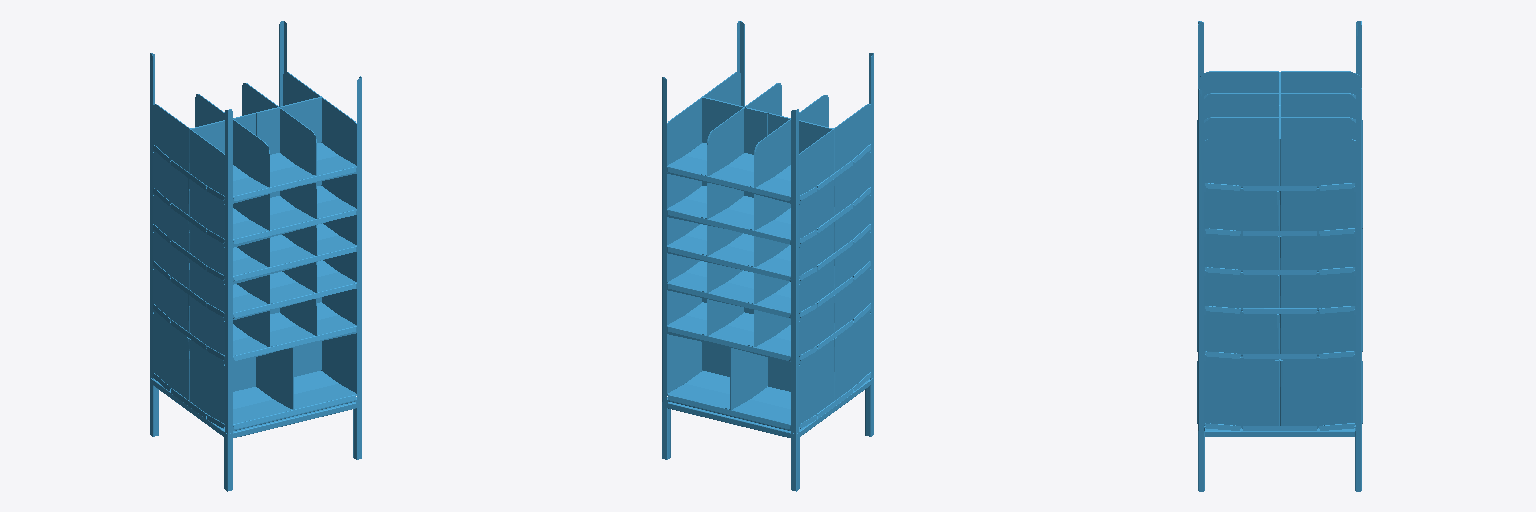
The robot description file, URDF, robot "shelf.SLDASM":
<robot
  name="shelf.SLDASM">

  <link
    name="base_link">
      <origin
        xyz="0 0 0 "
        rpy="1.5707 0 0" />
  </link>
  <link
    name="pod_link">
    <inertial>
      <origin
        xyz="0 0 0 "
        rpy="0 0 0" />
      <mass
        value="20" />
      <inertia
        ixx="0.104502176006253"
        ixy="0.00734284655670482"
        ixz="1.00520827530156E-05"
        iyy="0.246486764065977"
        iyz="0.000843006810157312"
        izz="0.16727784258504" />
    </inertial>
    <visual>
      <origin
        xyz="0 0 0"
        rpy="0 0 0" />
      <geometry>
        <mesh
          filename="meshes/pod_lowres.stl" />
      </geometry>
    </visual>
    <collision>
      <origin
        xyz="0 0 0"
        rpy="0 0 0" />
      <geometry>
        <mesh
          filename="meshes/pod_lowres.stl" />
      </geometry>
    </collision>
</link>


  <joint name="podjoint" type="prismatic">
    <parent link="base_link"/>
    <child link="pod_link"/>
    <origin rpy="0 0 0" xyz="0 0 0"/>
    <limit />
  </joint>
</robot>

--- Render facts (derived) ---
The picture shows the robot from 3 angles, left to right: view 1: azimuth 30°, elevation 25°; view 2: azimuth 150°, elevation 25°; view 3: azimuth 270°, elevation 25°; orthographic projection.
Model shelf.SLDASM with 2 links and 1 joints (1 prismatic), rooted at base_link, posed all joints at 0.
Links seen in each view (by area): view 1: pod_link; view 2: pod_link; view 3: pod_link.
Boxes of the visible links, box(x1,y1,x2,y2) form: pod_link: box(150, 21, 361, 491); pod_link: box(662, 21, 873, 491); pod_link: box(1197, 21, 1362, 491).
Bounding box of the posed robot: 0.8795 × 0.8842 × 2.37 m (x, y, z).
Meshes: 1 distinct files referenced, 1 mesh visuals loaded (1 binary STL).